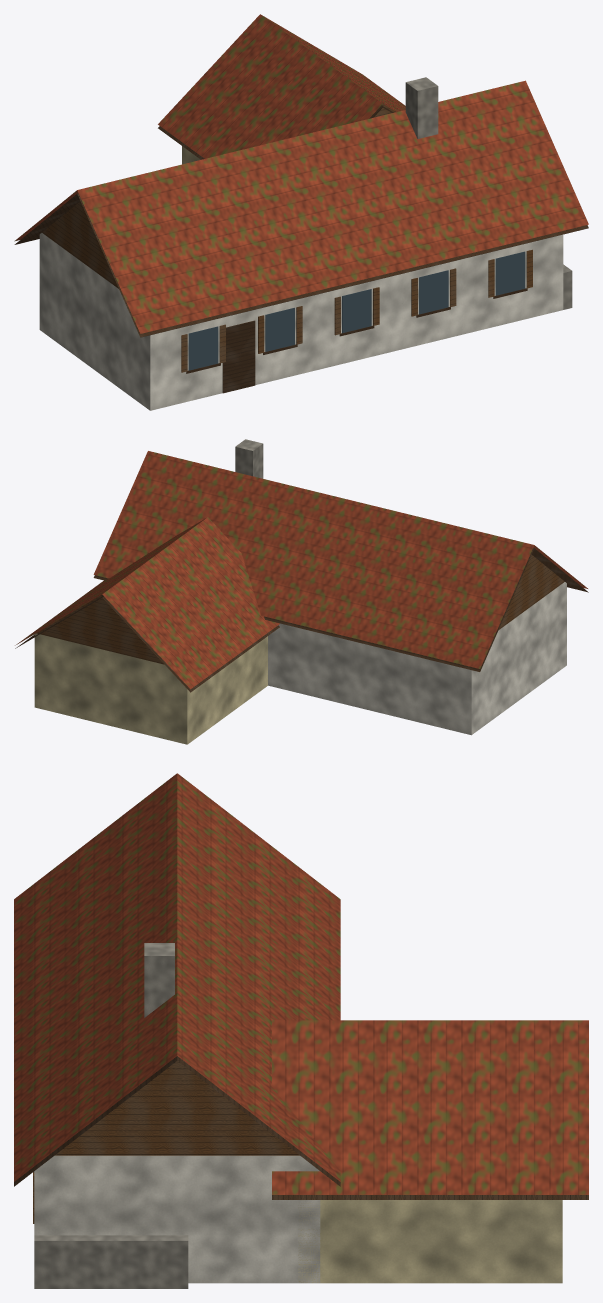
File: village_house_c.glb
The picture shows the model from 3 angles, top to bottom: view 1: azimuth 30°, elevation 25°; view 2: azimuth 150°, elevation 25°; view 3: azimuth 270°, elevation 25°; orthographic projection. The views are drawn at different scales.
Parts seen in each view (by area): view 1: village_house_c; view 2: village_house_c; view 3: village_house_c.
Boxes of the visible parts, left/top/right/bottom form: village_house_c: left=14, top=14, right=588, bottom=410; village_house_c: left=15, top=439, right=588, bottom=744; village_house_c: left=14, top=773, right=588, bottom=1288.
Bounding box in the file's own units: 15.2 × 6.9 × 13.06.
7 materials, 6 textured.
